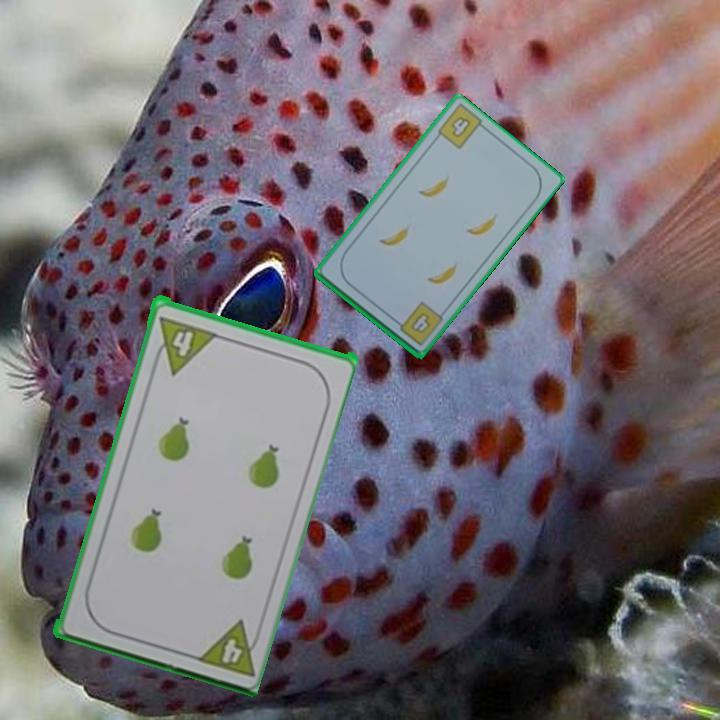4b: (390, 298, 444, 349), (447, 112, 474, 140)
4p: (190, 615, 265, 680), (148, 312, 218, 376)
